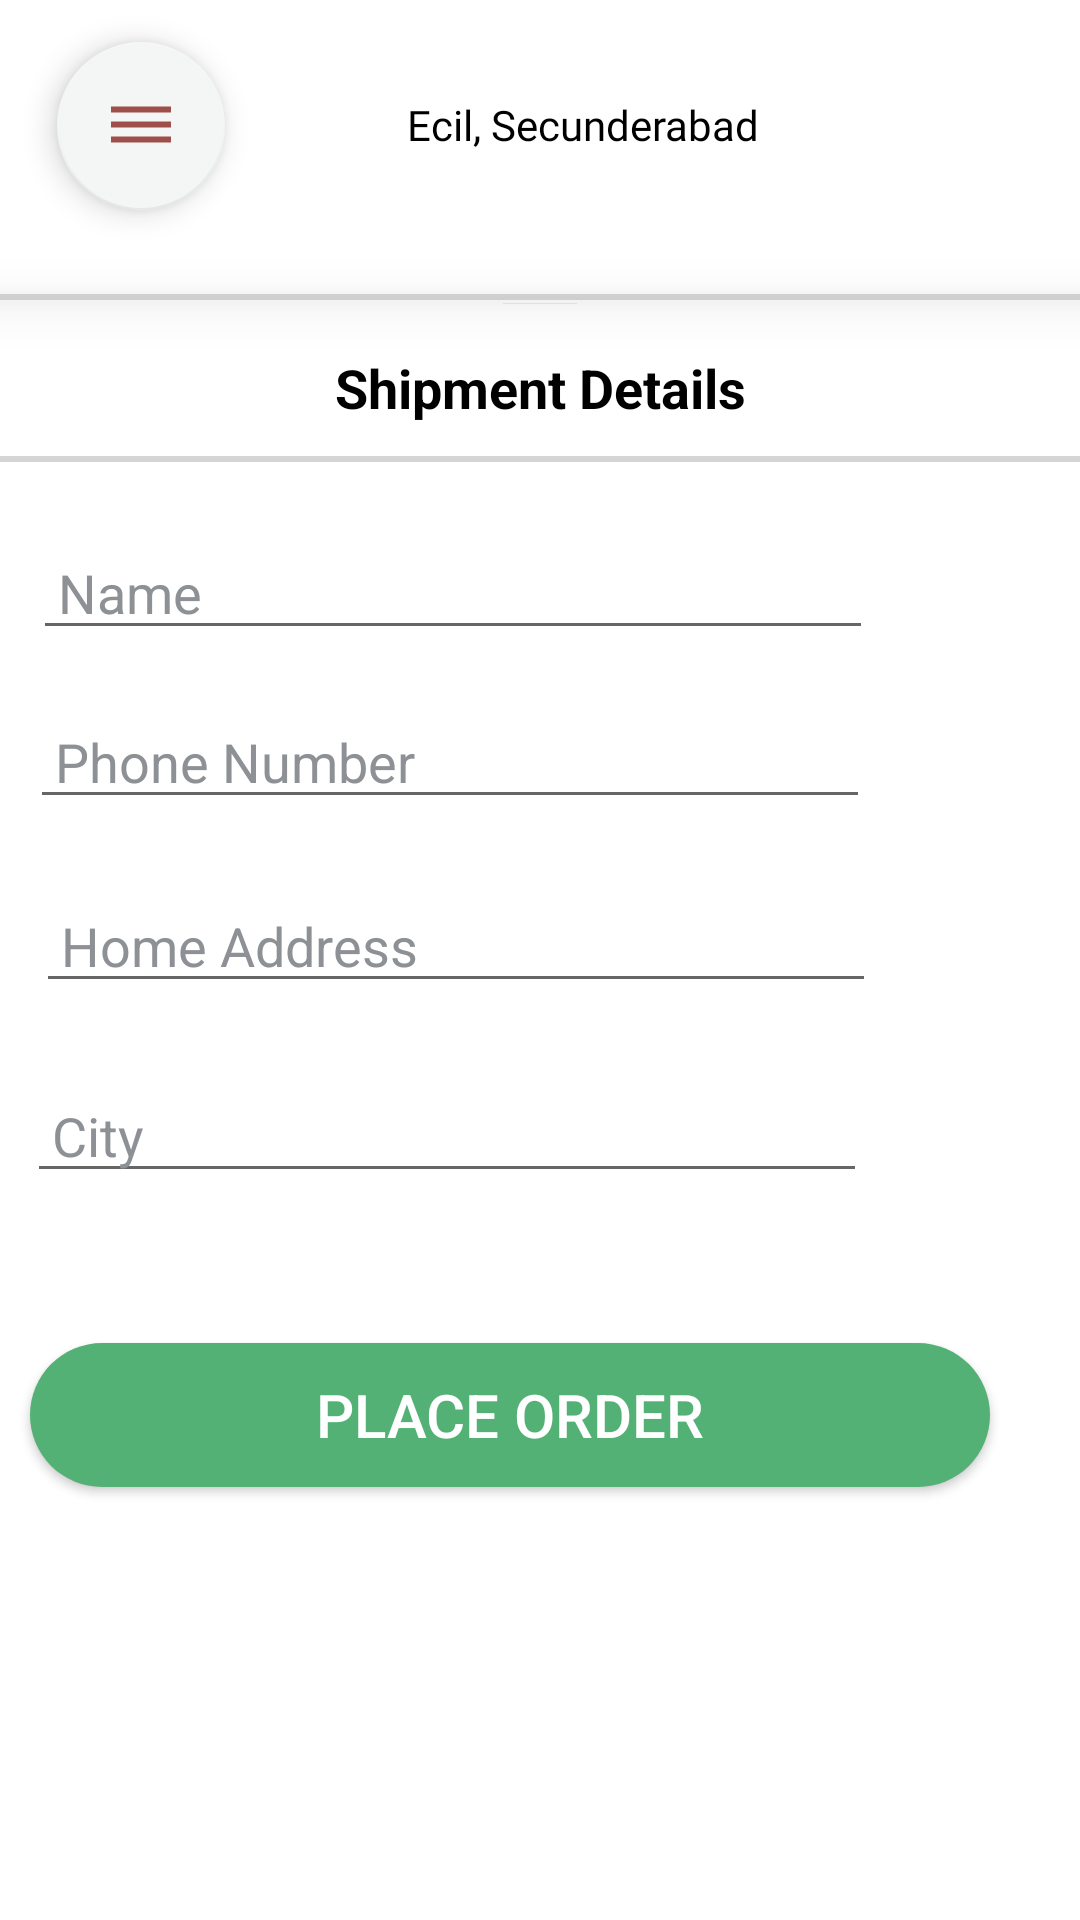

Named icons in this screenshot (1080x1920) and their bounding boxes, (x1, y1, x2, y2):
dehaze: (57, 42, 225, 210)
